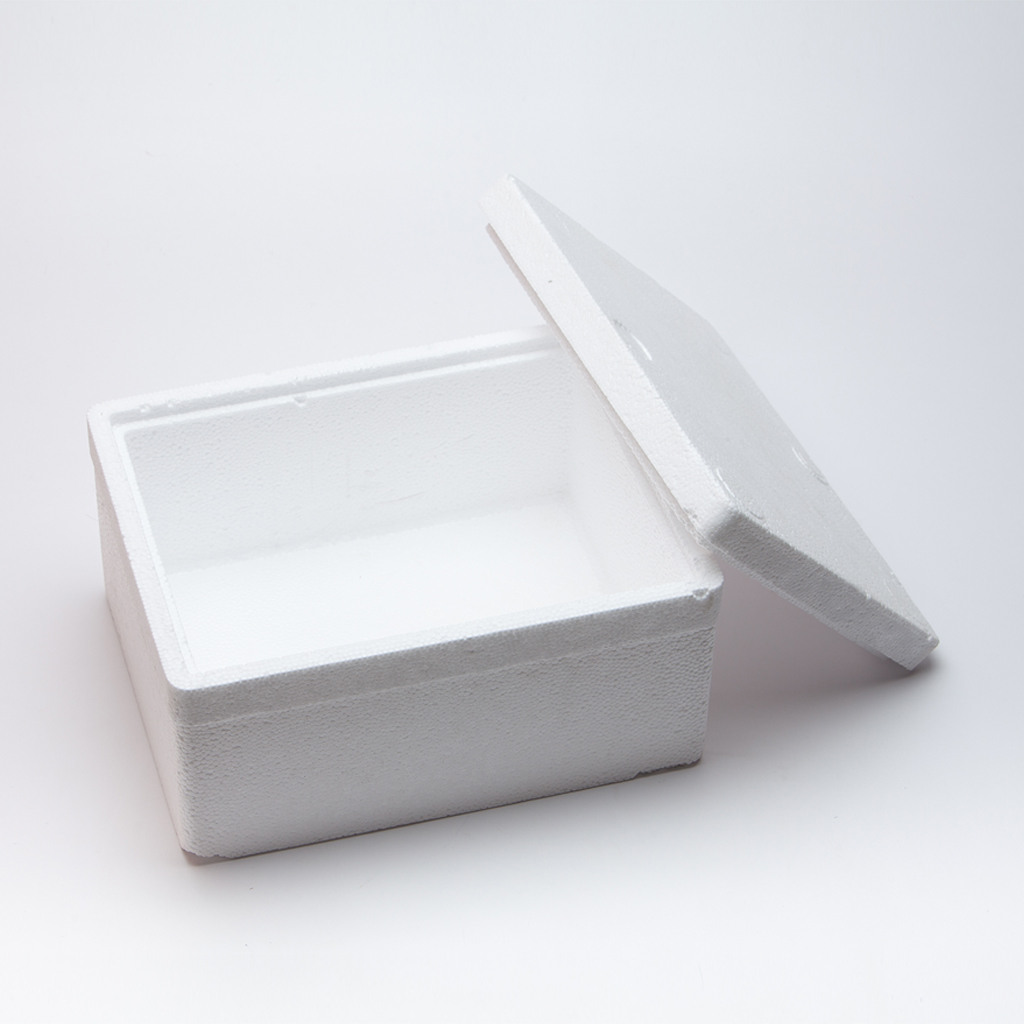Boxes: (87, 176, 937, 862)
